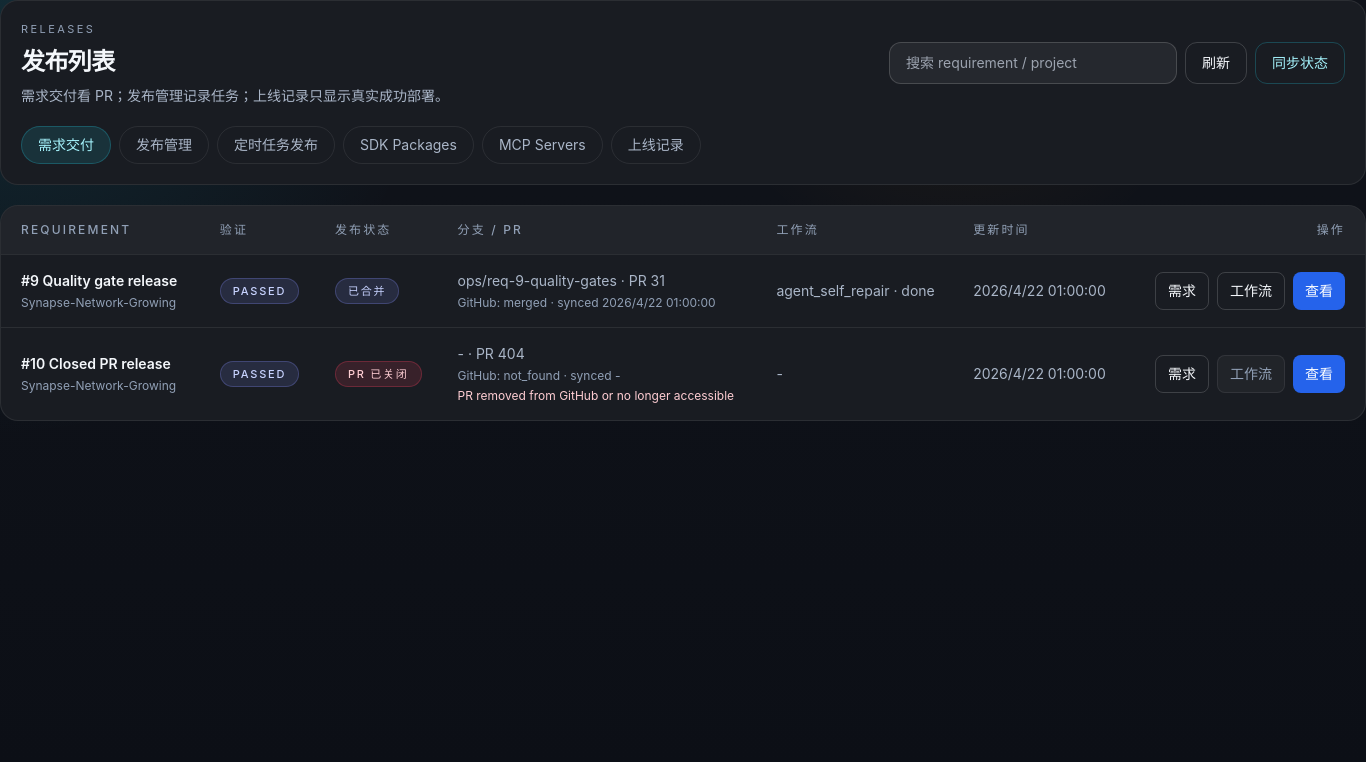
Test case: ReleasesPage › does not show stale GitHub failure logs for a successful release task
What coordinates should you click on to do the following:
click the button "发布管理"
I would click on:
 (164, 144)
Its box is [119,126,209,164].
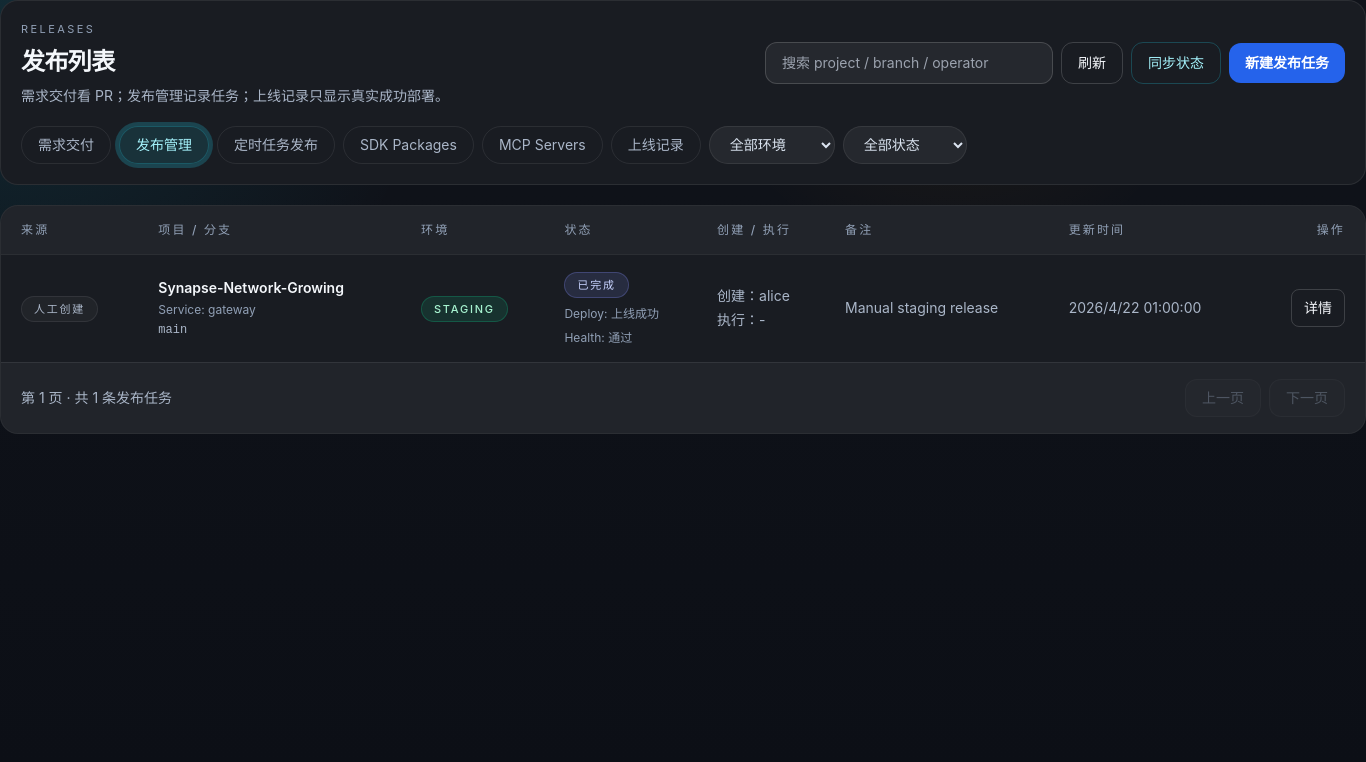
Expected: the text "Deploy: 上线成功" is shown, [564,306,659,321]
Expected: the text "Health: 通过" is shown, [564,330,632,345]
What coordinates should you click on to do the following:
click the button "详情"
I would click on:
 (1318, 308)
Its box is [1291,289,1345,327].
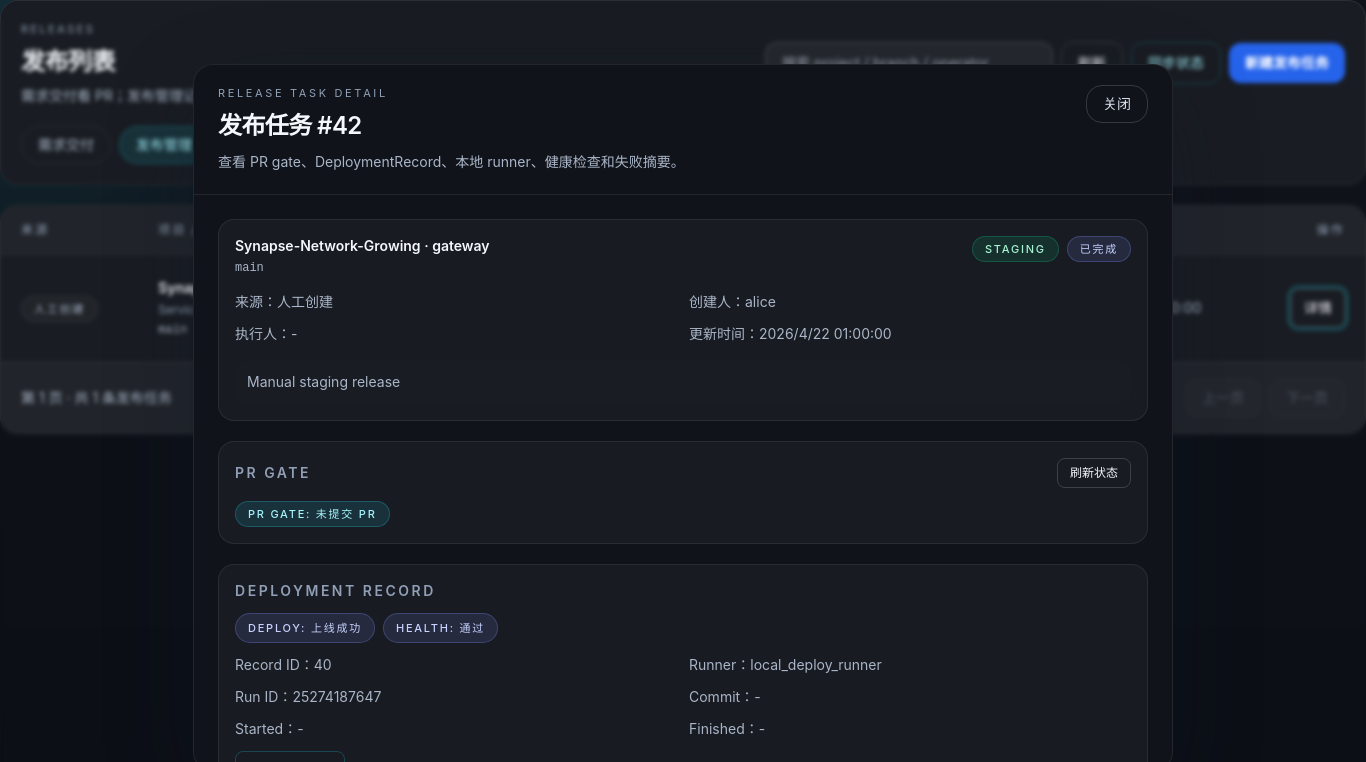
Expected: the text "Run ID：25274187647" is shown, [235,688,381,705]
